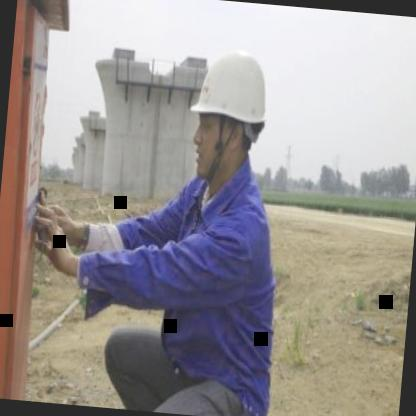helmet: (183, 37, 278, 182)
